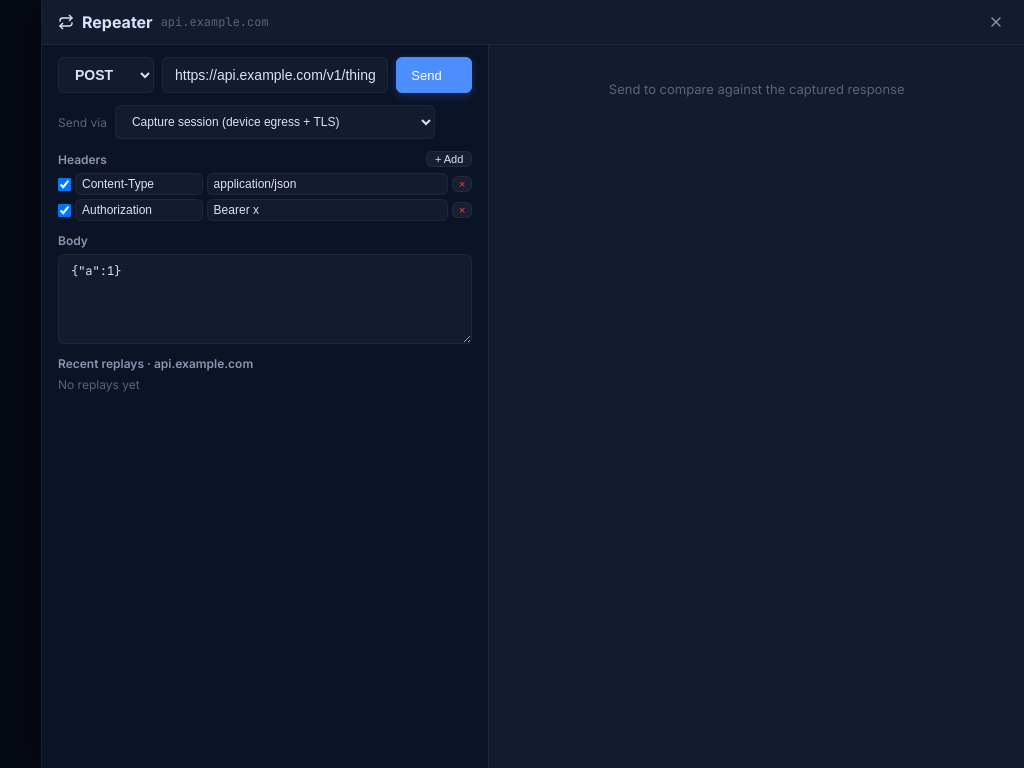
Test: ReplayDrawer › sends a captureSession payload and renders the original-vs-new diff
Expected: the dropdown with test id "replay-send-via" shows "Capture session (device egress + TLS)", [115,105,435,139]
Click the button with test id "replay-send". click: (434,75)
box: [396,57,472,93]
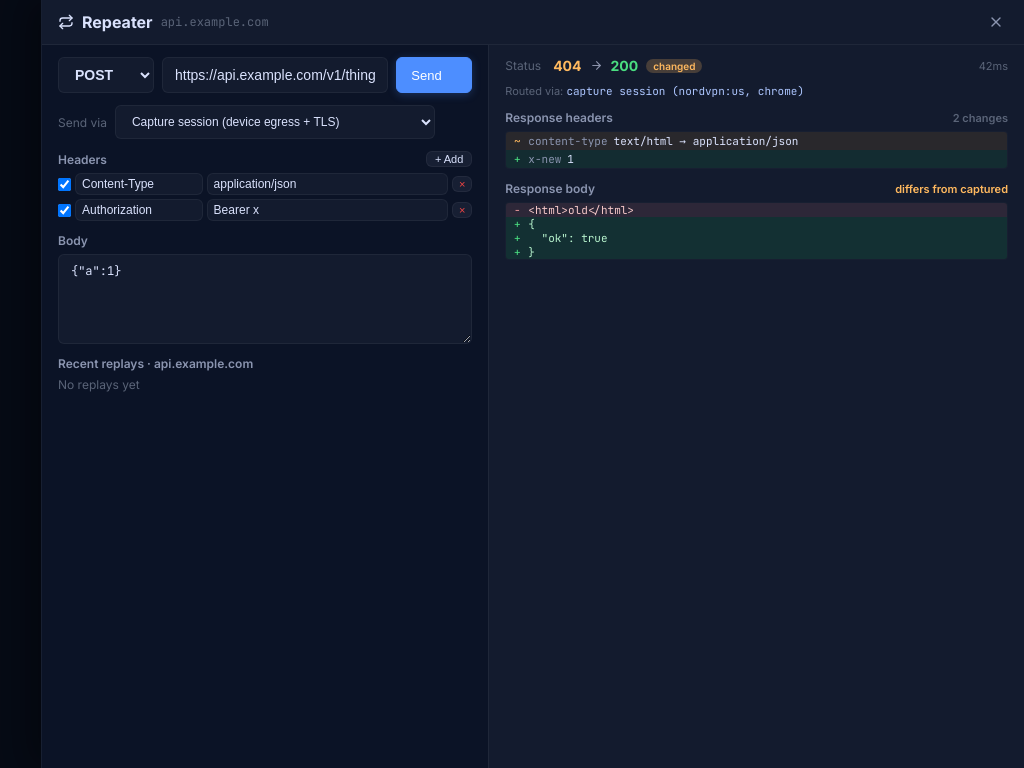
Expected: the text with test id "replay-orig-status" reads "404", [553,57,582,74]
Expected: the text with test id "replay-new-status" reads "200", [610,57,638,74]
Expected: the text with test id "replay-status-diff" reads "changed", [653,60,695,72]
